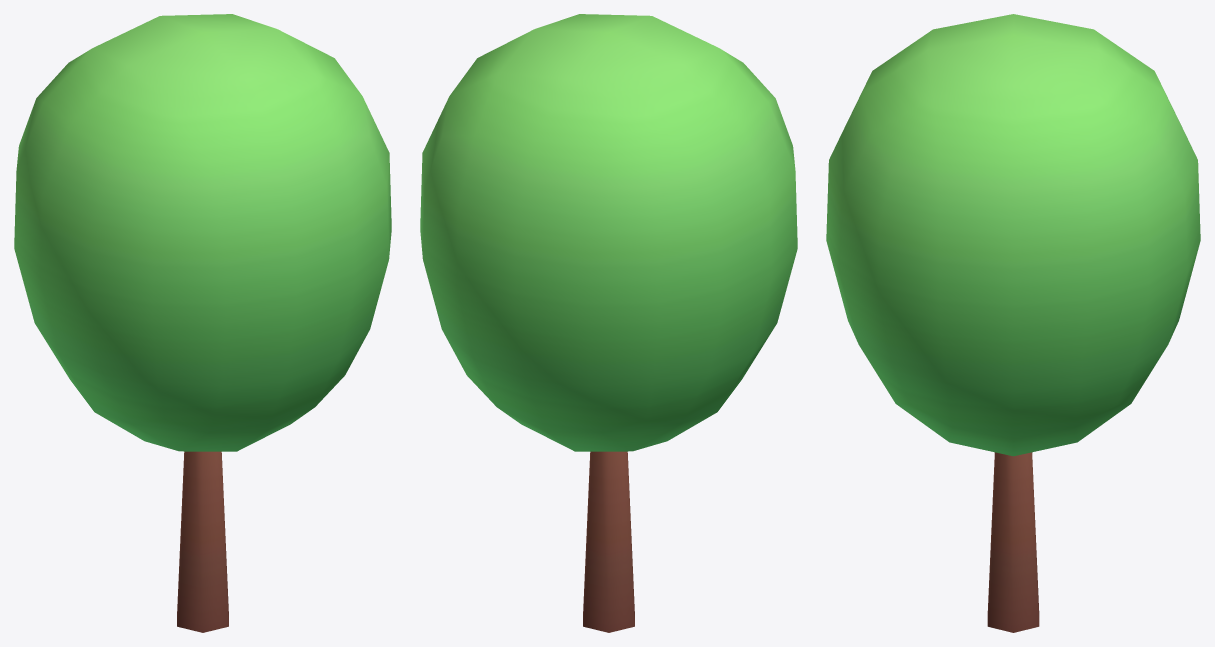
File: city2-tree-05.glb
3 renders of one model, left to right at view 1: azimuth 30°, elevation 25°; view 2: azimuth 150°, elevation 25°; view 3: azimuth 270°, elevation 25°, orthographic.
Parts seen in each view (by area): view 1: Tree_05; view 2: Tree_05; view 3: Tree_05.
Boxes of the visible parts, x1,y1,x2,y2 form: Tree_05: (14,14,391,632); Tree_05: (420,14,797,632); Tree_05: (826,14,1200,632).
Bounding box in the file's own units: 3.56 × 6.13 × 3.56.
1 material, 1 textured.
